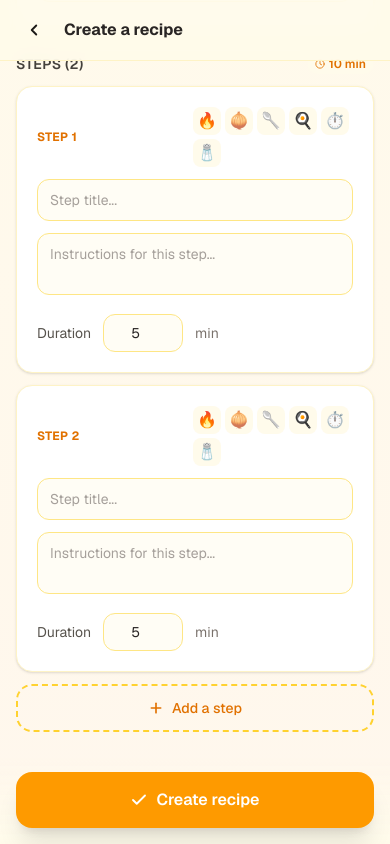
Test: RecipeForm › adds a step when Add a step is clicked
(page scrolled)
Click the button "Add a step" at point(195, 708), box 16,684 -> 374,732
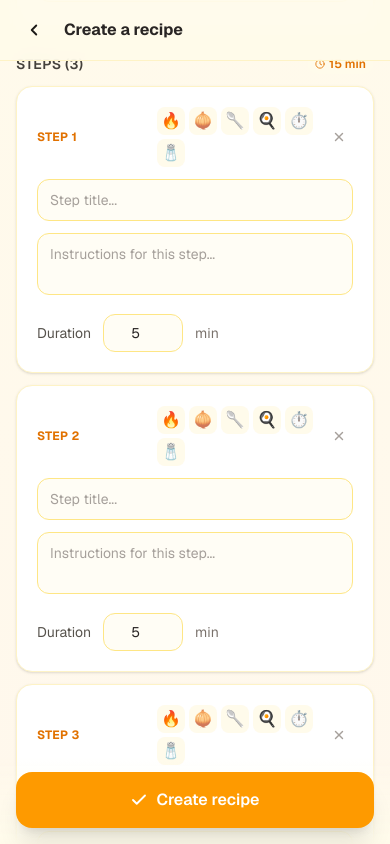
Check: the text "Step 1" is shown 3 times, box 37,129 -> 77,145; 37,428 -> 80,444; 37,727 -> 80,743
